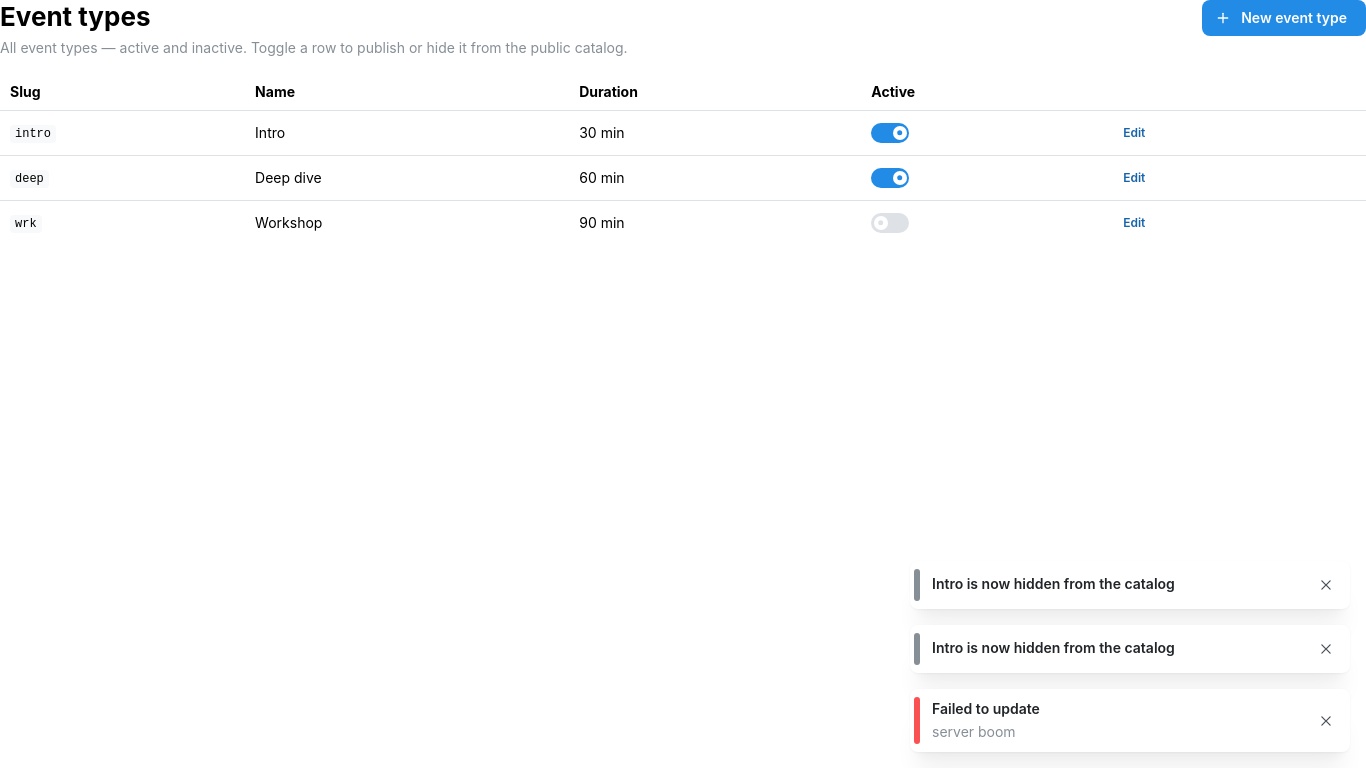
it: EventTypesPage › opens the edit modal from a row Edit button
The width and height of the screenshot is (1366, 768).
Click the button "Edit" in the row of "30".
click(1134, 133)  # box 1108,118 -> 1160,148
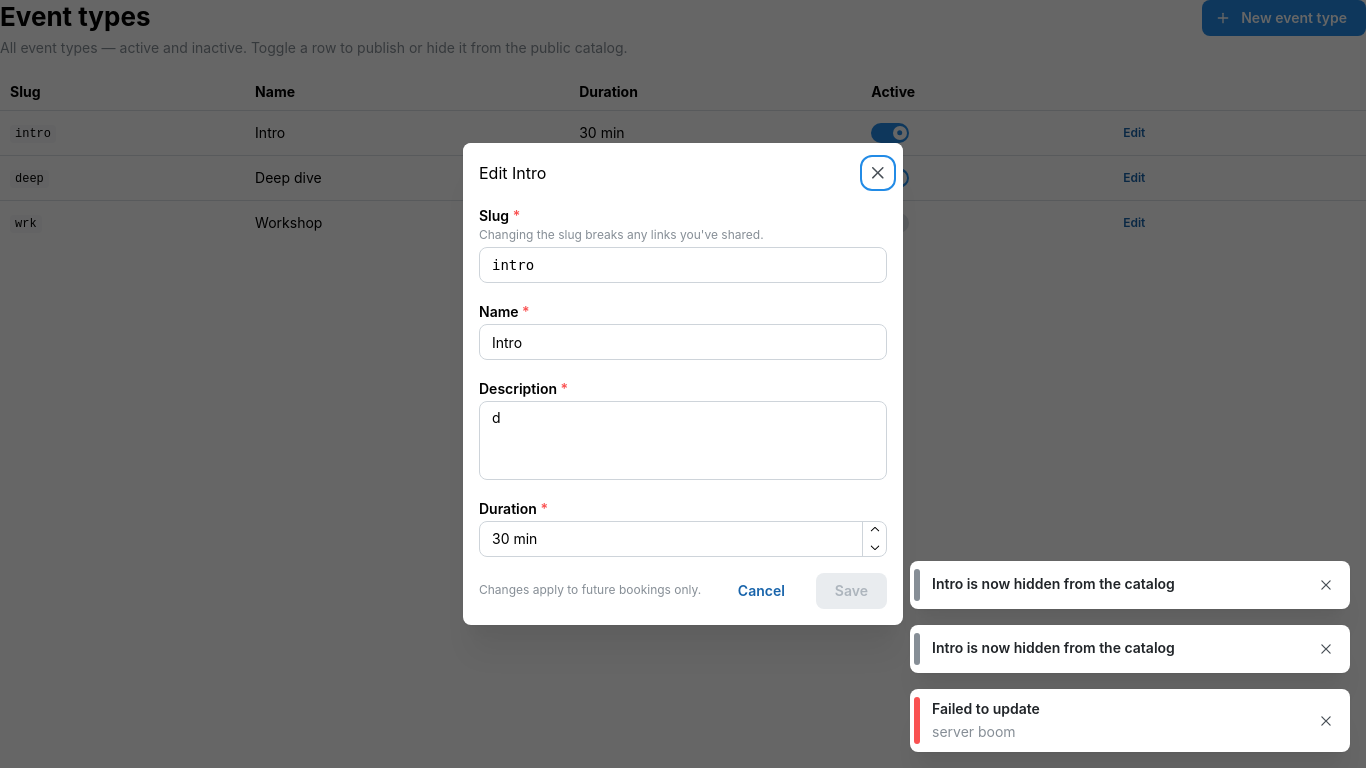
Now the dialog "Edit Intro" is shown, box 463,143 -> 903,625
